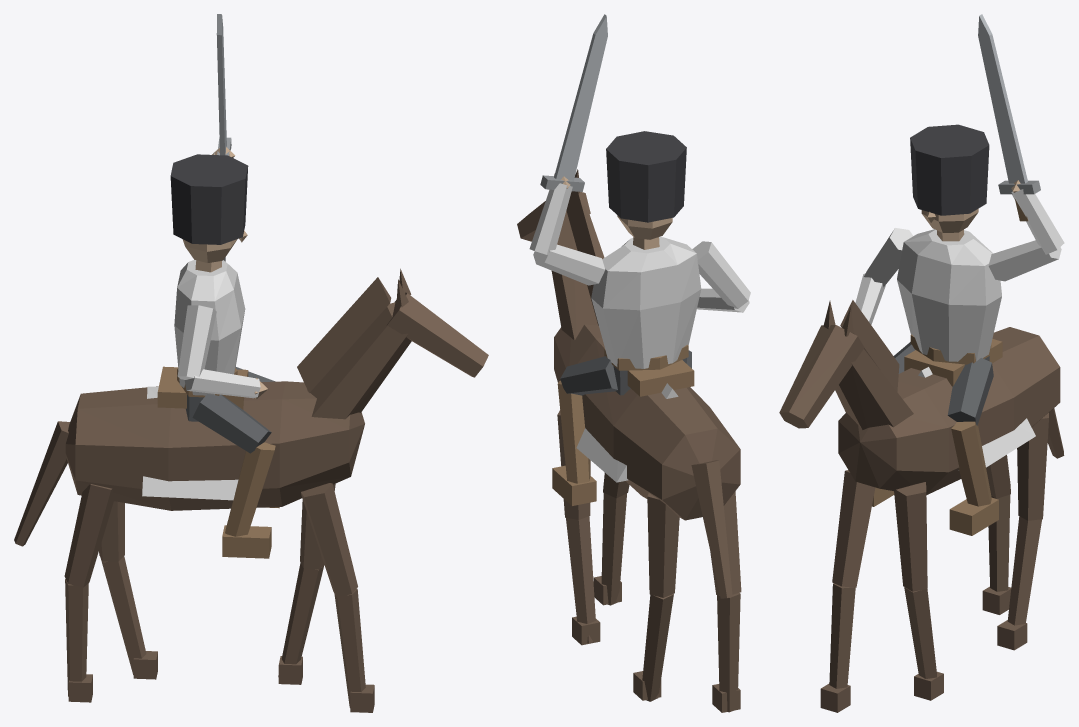
The model's file is cossack.glb.
The picture shows the model from 3 angles, left to right: view 1: azimuth 30°, elevation 25°; view 2: azimuth 150°, elevation 25°; view 3: azimuth 270°, elevation 25°; orthographic projection.
Visible parts, largest first — view 1: LOD0; view 2: LOD0; view 3: LOD0.
Boxes of the visible parts, x1,y1,x2,y2 form: LOD0: [14, 14, 488, 712]; LOD0: [517, 14, 750, 712]; LOD0: [779, 14, 1064, 712].
Size of what is drawn, in the model's own units: 0.9264 by 1.7 by 0.667.
